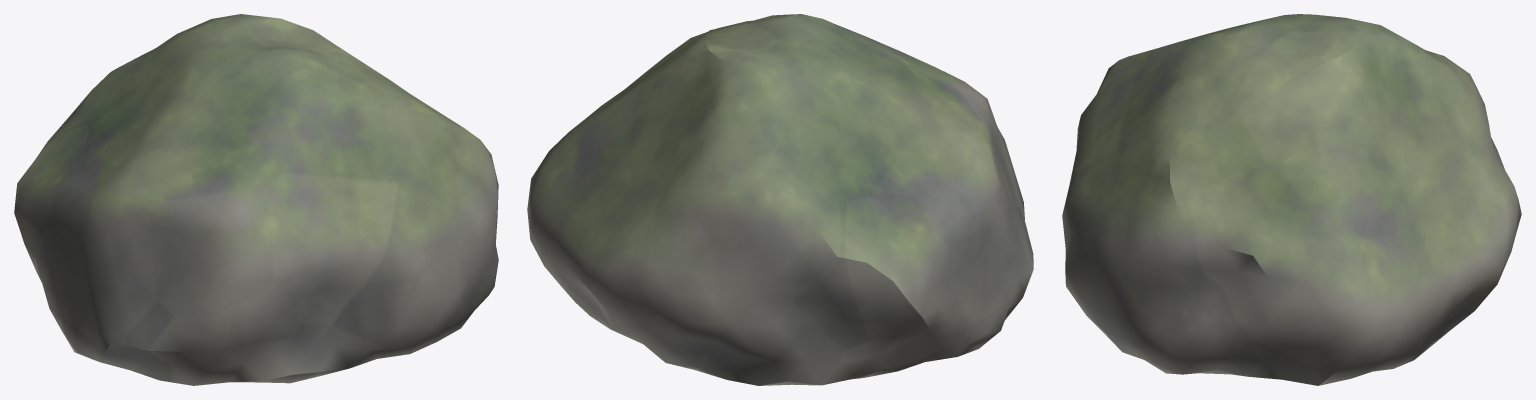
Rendered from rock_small_b.glb.
3 renders of one model, left to right at view 1: azimuth 30°, elevation 25°; view 2: azimuth 150°, elevation 25°; view 3: azimuth 270°, elevation 25°, orthographic. The views are drawn at different scales.
Visible parts, largest first — view 1: rock_small_b; view 2: rock_small_b; view 3: rock_small_b.
Part boxes in pixels (x1,y1,x2,y2): rock_small_b: [14, 14, 498, 385]; rock_small_b: [527, 14, 1033, 385]; rock_small_b: [1062, 14, 1521, 385].
Bounding box in the file's own units: 0.4608 × 0.2816 × 0.427.
Materials: 1 (1 with a texture image).
